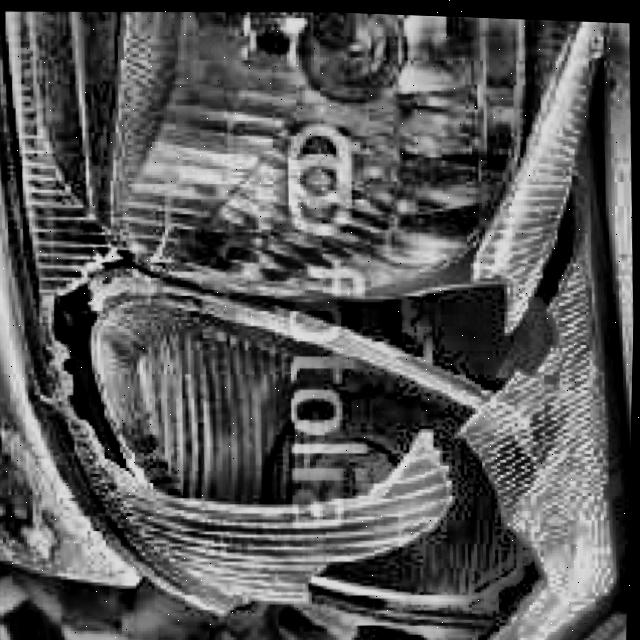head_lamp: (93, 251, 523, 527), (288, 501, 534, 640)
